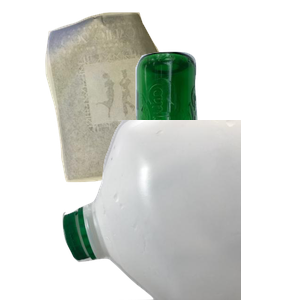glass: (129, 49, 300, 229)
paper: (43, 10, 221, 185)
plastic: (60, 120, 300, 300)
trash: (84, 133, 292, 300)
